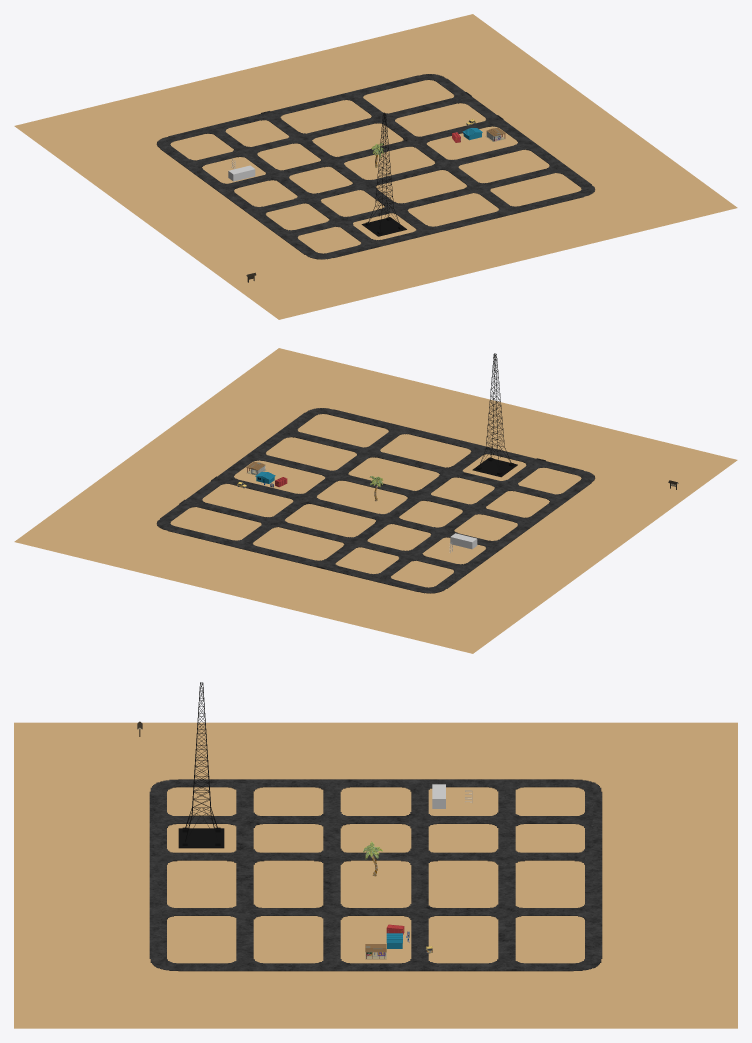
3 views of the same model, one above another, from view 1: azimuth 30°, elevation 25°; view 2: azimuth 150°, elevation 25°; view 3: azimuth 270°, elevation 25° (orthographic). The views are drawn at different scales.
Parts seen in each view (by area): view 1: ground, road, power_line; view 2: ground, road, power_line; view 3: ground, road, power_line.
Boxes of the visible parts, x1=… form: ground: x1=14, y1=14, x2=737, y2=319; road: x1=156, y1=74, x2=595, y2=259; power_line: x1=361, y1=112, x2=406, y2=236; ground: x1=14, y1=348, x2=737, y2=653; road: x1=156, y1=408, x2=595, y2=593; power_line: x1=472, y1=353, x2=517, y2=477; ground: x1=14, y1=722, x2=737, y2=1028; road: x1=149, y1=779, x2=602, y2=971; power_line: x1=178, y1=682, x2=224, y2=848.
Size of the model in its own units: 250 by 59.5 by 250.
9 materials, 9 textured.
